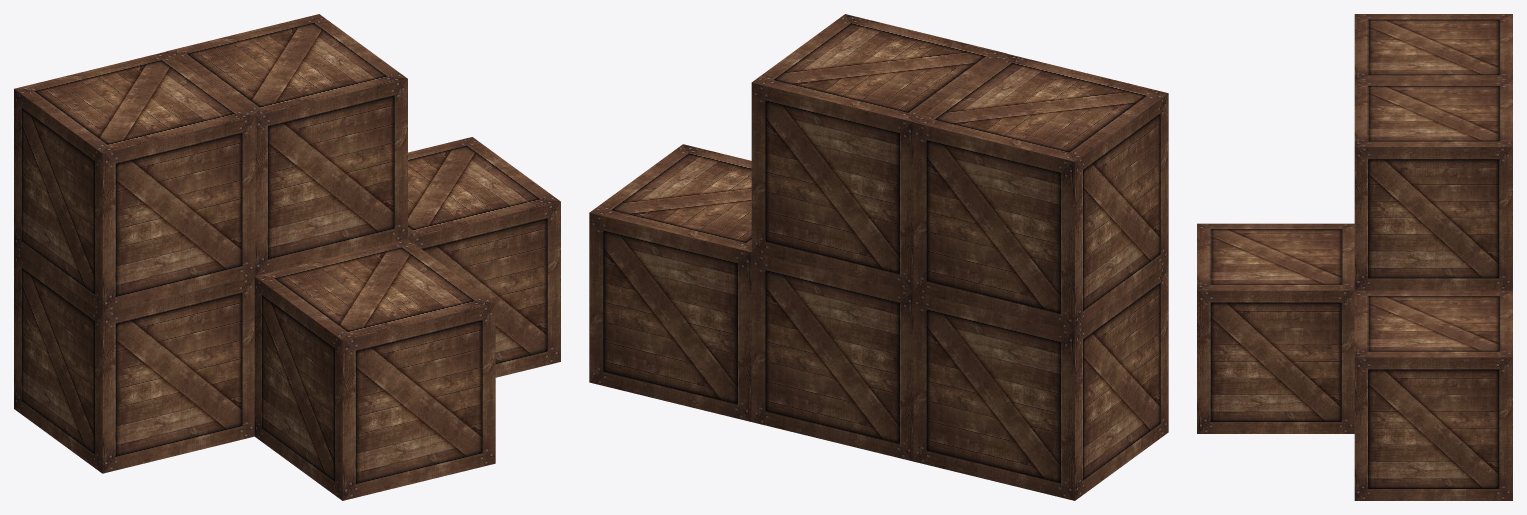
Rendered from boxes.obj.
3 views of the same model, side by side, from view 1: azimuth 30°, elevation 25°; view 2: azimuth 150°, elevation 25°; view 3: azimuth 270°, elevation 25° (orthographic). The views are drawn at different scales.
Parts seen in each view (by area): view 1: Cube, Cube.005, Cube.004, Cube.002, Cube.003; view 2: Cube.005, Cube.004, Cube.002, Cube.003, Cube.001; view 3: Cube.002, Cube.003, Cube, Cube.005.
Boxes of the visible parts, x1=… form: Cube: x1=254, y1=239, x2=495, y2=500; Cube.005: x1=14, y1=51, x2=255, y2=313; Cube.004: x1=14, y1=249, x2=254, y2=473; Cube.002: x1=166, y1=14, x2=407, y2=275; Cube.003: x1=408, y1=137, x2=560, y2=377; Cube.005: x1=912, y1=54, x2=1168, y2=331; Cube.004: x1=912, y1=263, x2=1168, y2=500; Cube.002: x1=751, y1=14, x2=1006, y2=291; Cube.003: x1=589, y1=144, x2=751, y2=421; Cube.001: x1=751, y1=252, x2=913, y2=461; Cube.002: x1=1354, y1=80, x2=1512, y2=290; Cube.003: x1=1354, y1=290, x2=1512, y2=500; Cube: x1=1197, y1=223, x2=1354, y2=433; Cube.005: x1=1354, y1=14, x2=1512, y2=80.
Bounding box in the file's own units: 5.99 × 4 × 3.99.
Materials: 1 (1 with a texture image).
